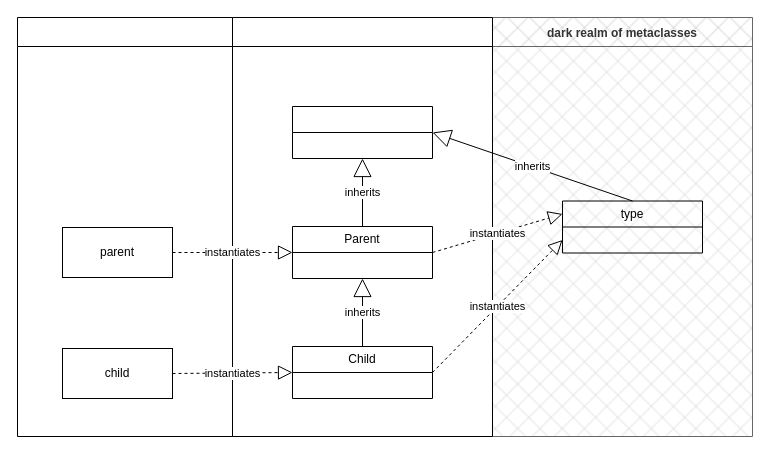
Some shapes in this 770 by 454 pixel diagram are drawn without their labels. Here are the shapes that lost their labels. From the top down, the box of each, then its label:
(292, 106, 432, 158): object
(16, 16, 232, 436): objects
(232, 16, 492, 436): classes
